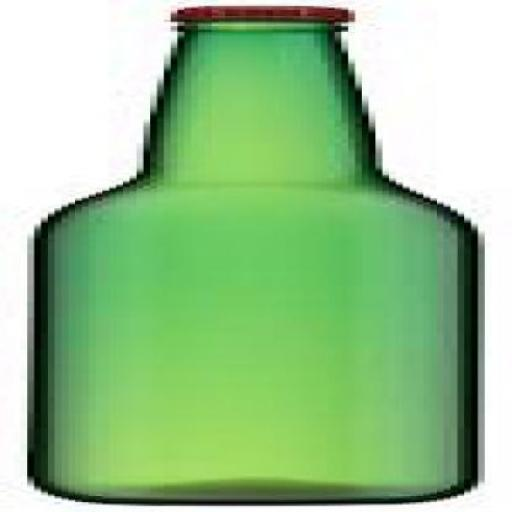glass: (34, 20, 471, 502)
metal: (164, 4, 341, 22)
